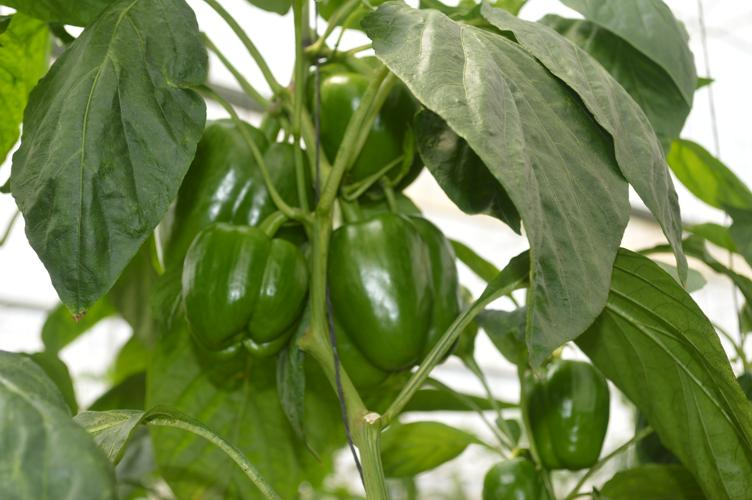BellPepper: (331, 213, 463, 375), (159, 120, 313, 255), (182, 226, 313, 357), (305, 57, 416, 186), (523, 360, 614, 463)
